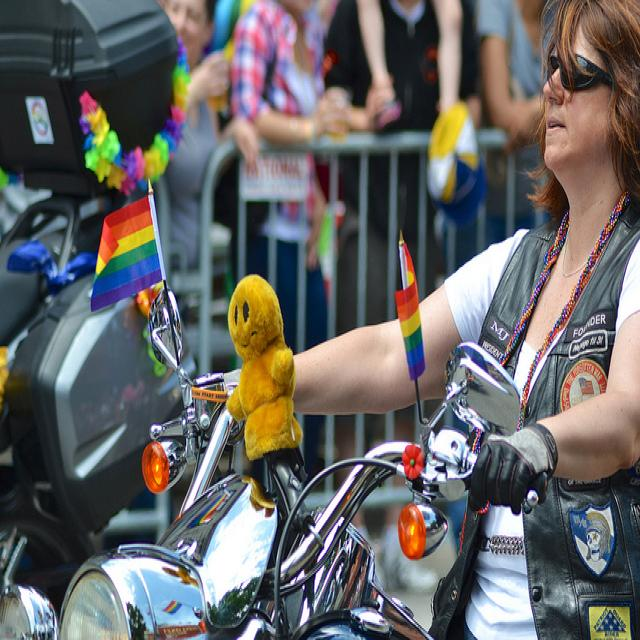motor: (60, 276, 533, 633)
